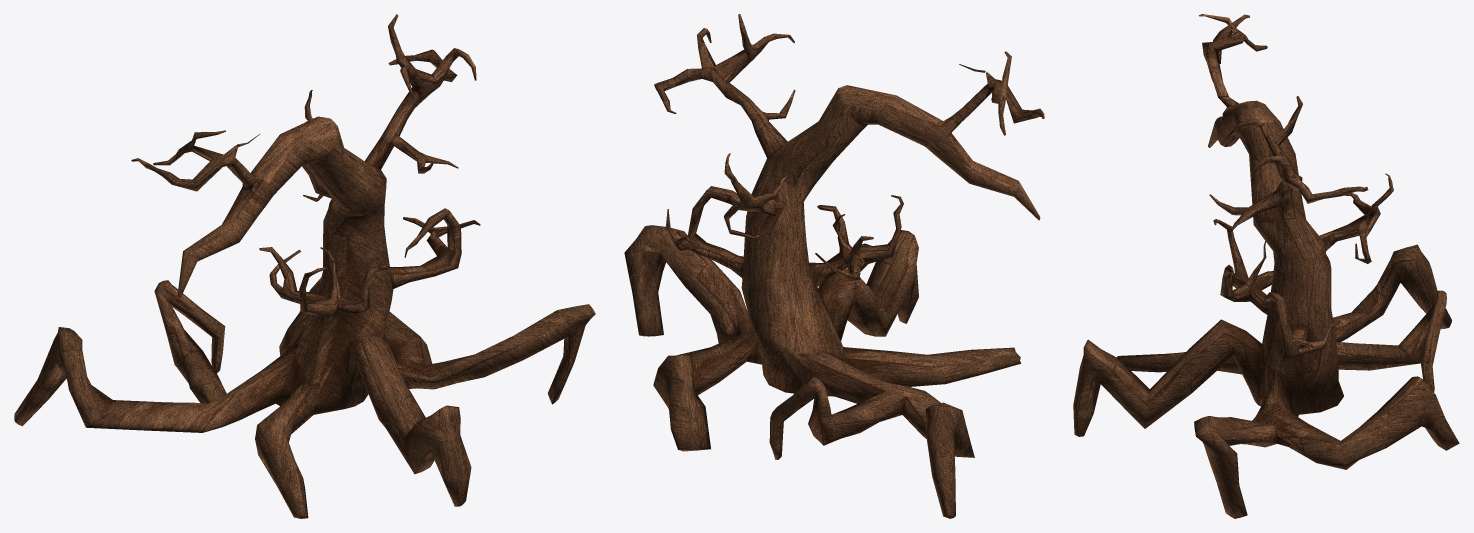
File: tree1.fbx
3 renders of one model, left to right at view 1: azimuth 30°, elevation 25°; view 2: azimuth 150°, elevation 25°; view 3: azimuth 270°, elevation 25°, orthographic. The views are drawn at different scales.
Visible parts, largest first — view 1: Cylinder; view 2: Cylinder; view 3: Cylinder.
Part boxes in pixels (x1,y1,x2,y2): Cylinder: (14,14,595,518); Cylinder: (624,14,1044,518); Cylinder: (1073,14,1459,518).
Size of the model in its own units: 1049 by 870 by 827.
Materials: 1 (1 with a texture image).
